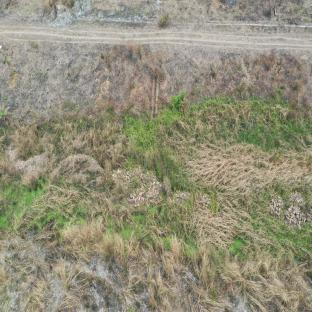rock_toe: (113, 163, 308, 229)
slope_drain: (148, 52, 163, 132)
vegetation: (3, 95, 310, 212), (34, 213, 302, 306)
